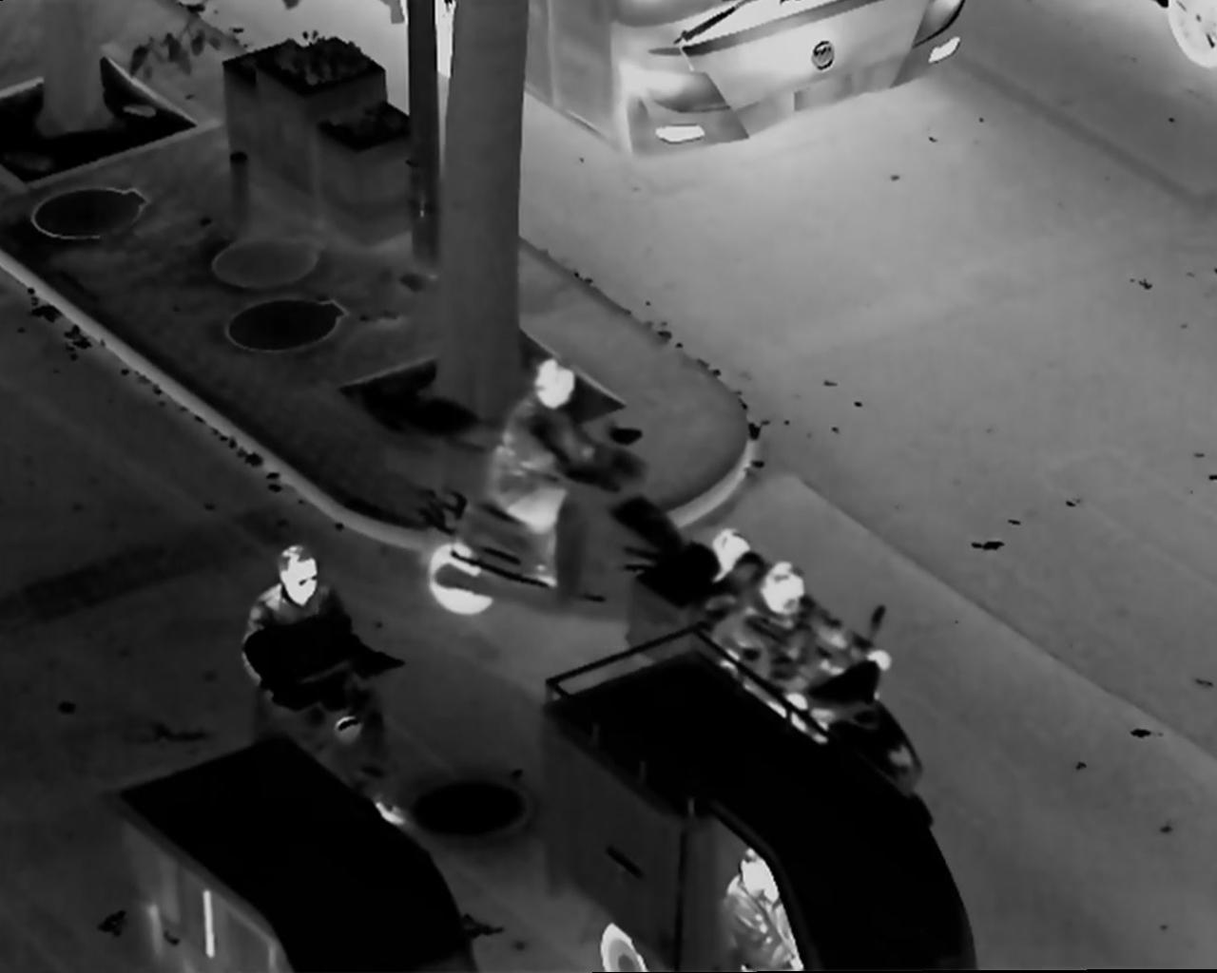person: (242, 542, 411, 827), (490, 353, 632, 607), (746, 544, 889, 788), (727, 846, 802, 973), (710, 528, 770, 668)
